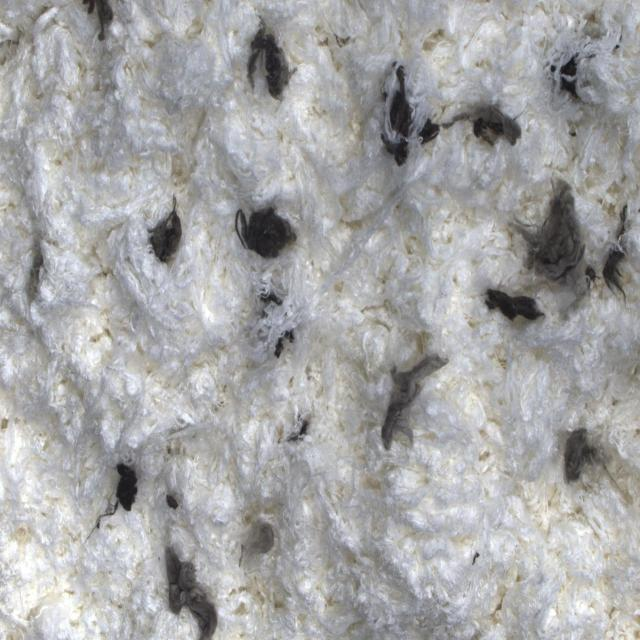dust: (505, 179, 640, 303), (462, 246, 563, 386), (552, 0, 640, 124), (459, 61, 540, 195), (375, 352, 451, 462), (4, 211, 73, 318), (230, 480, 291, 600), (540, 392, 603, 508), (243, 10, 302, 115), (99, 435, 153, 547), (165, 542, 222, 640), (222, 197, 302, 265), (376, 60, 421, 174), (251, 288, 303, 363), (142, 190, 185, 269), (418, 108, 458, 157), (279, 407, 318, 456), (77, 0, 117, 46), (161, 476, 188, 529)
